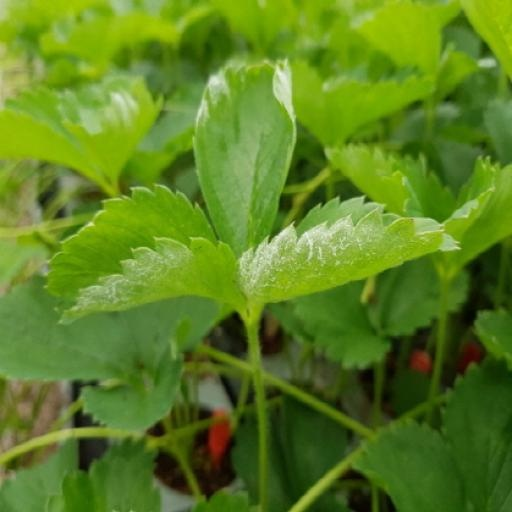Powdery Mildew Leaf: (265, 183, 467, 326), (51, 194, 271, 304), (213, 57, 319, 255)
